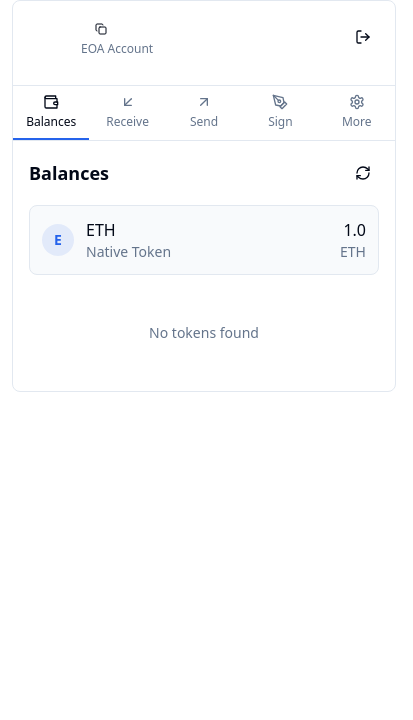
Test: WalletPanel Functional Tests › Sign Tab - Message Signing › signs a message and shows signature, copy works
Click the tab "Sign" at (280, 113), box [242,86,319,140]
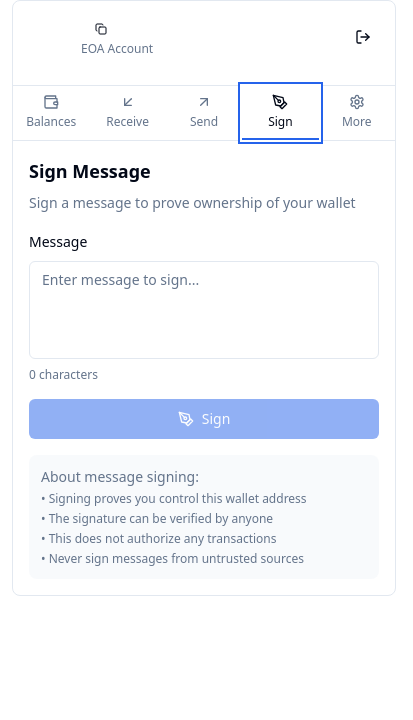
Type "hello" into the text box with placeholder "Enter message to sign..." at (204, 310), box [29,261,379,359]
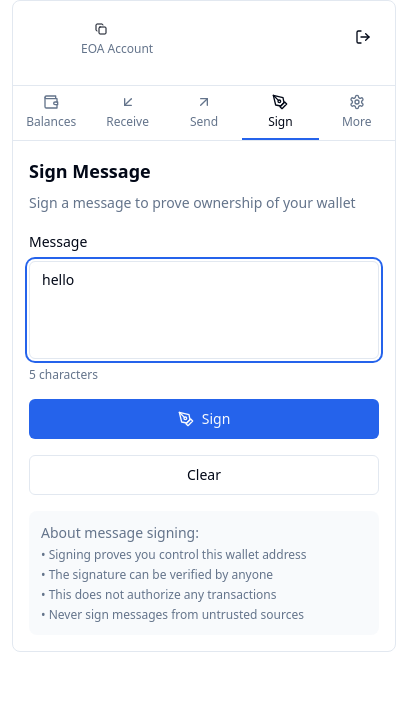
Click the button "Sign" at (204, 419), box [29,399,379,439]
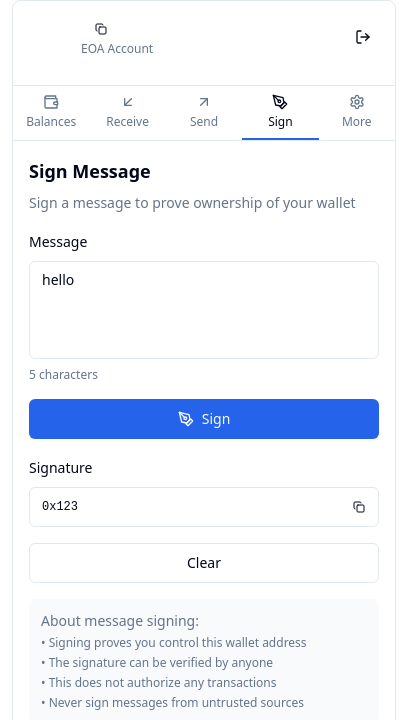
Check: the field showing "0x123" is shown, box [29,487,379,527]
// Copy signature
Click the button without text below "characters" at (359, 507), box [343,491,375,523]
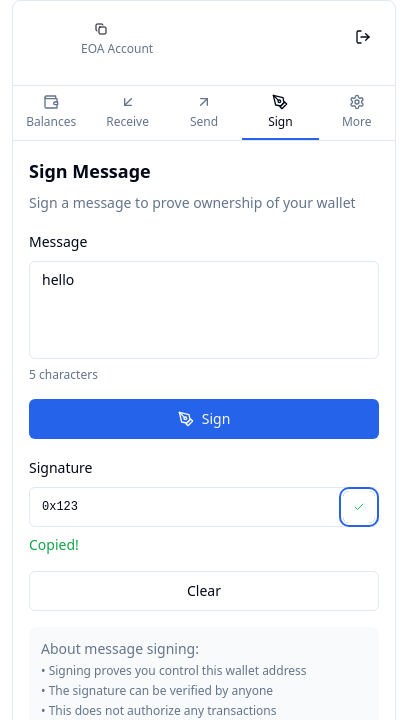
Check: the text "Copied!" is shown, box [29,535,79,554]
